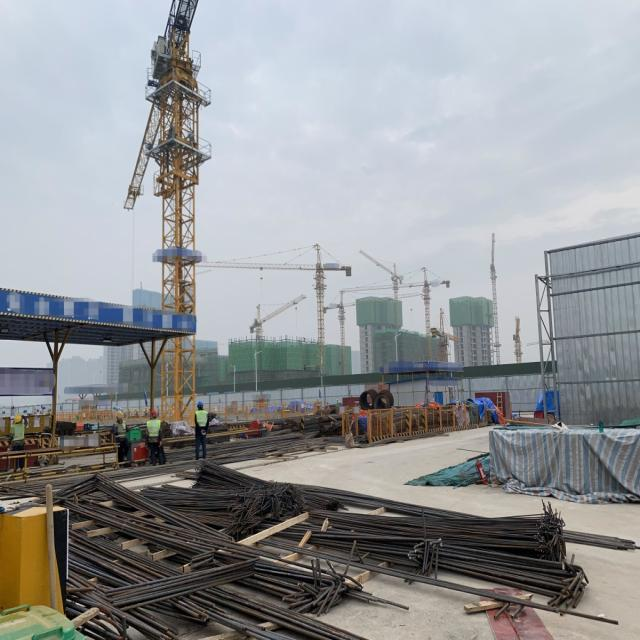crane: (123, 0, 211, 424), (195, 242, 350, 370), (339, 267, 449, 360), (359, 249, 402, 331), (323, 293, 356, 376), (250, 295, 307, 341), (431, 307, 460, 361), (490, 233, 500, 364), (513, 319, 523, 364)
